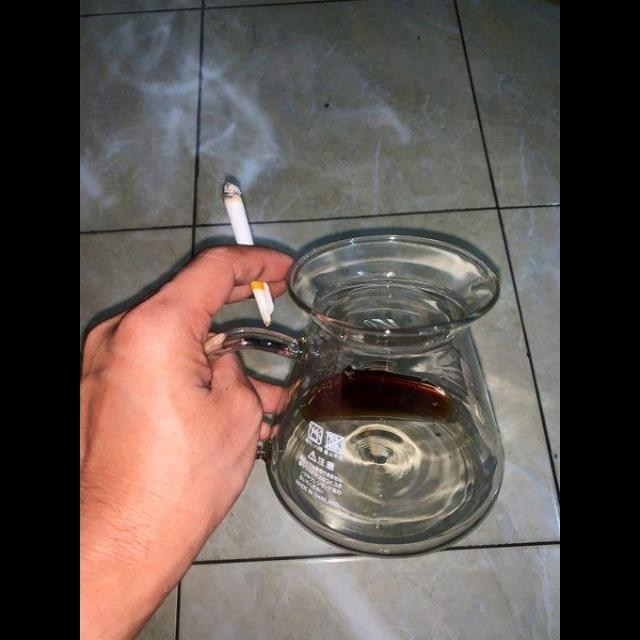rokok: (216, 177, 276, 329)
